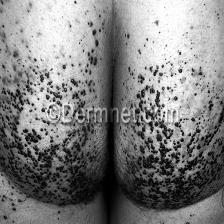Benign Marking or Mole: (121, 129, 224, 221), (0, 128, 98, 210), (10, 62, 90, 97), (134, 65, 183, 110)
